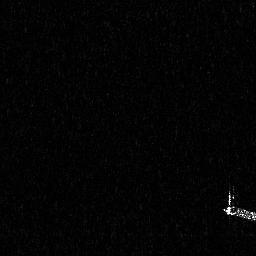ship: (222, 183, 256, 223)
